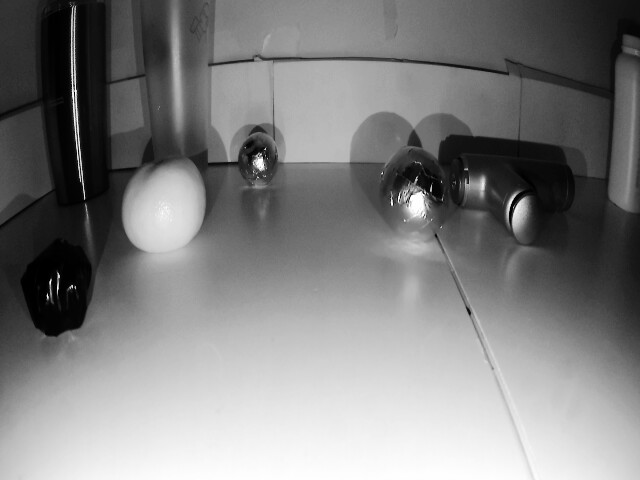black: (20, 244, 98, 345)
silver: (380, 141, 454, 249), (237, 132, 282, 188)
